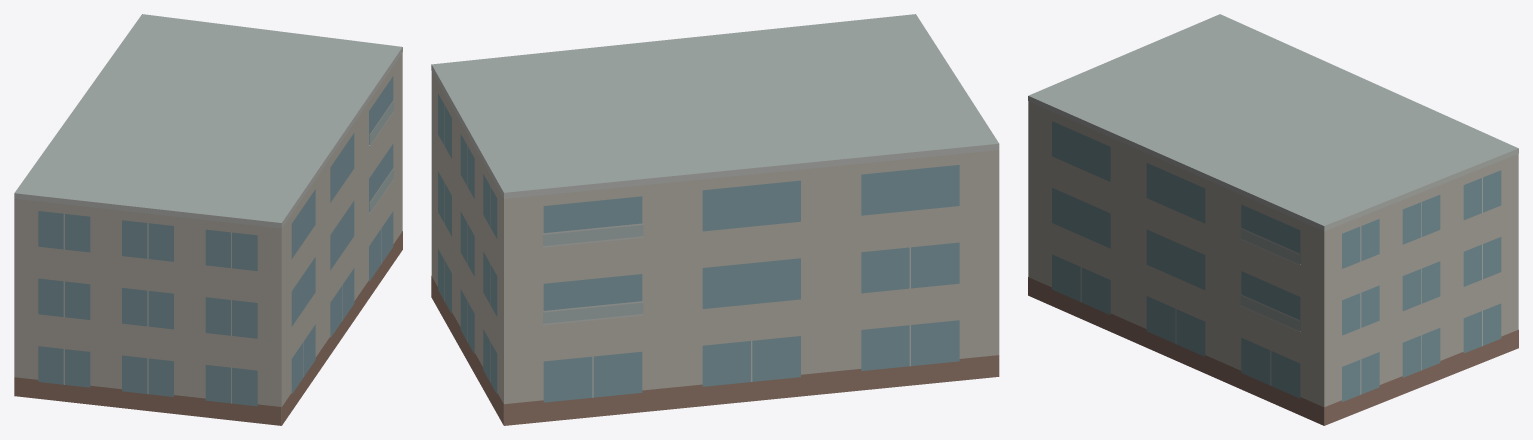
The model's file is survey-upis-32694063.glb.
3 renders of one model, left to right at view 1: azimuth 30°, elevation 25°; view 2: azimuth 150°, elevation 25°; view 3: azimuth 270°, elevation 25°, orthographic. The views are drawn at different scales.
Parts seen in each view (by area): view 1: survey-upis-32694063.tmp; view 2: survey-upis-32694063.tmp; view 3: survey-upis-32694063.tmp.
Part boxes in pixels (x1,y1,x2,y2): survey-upis-32694063.tmp: (14,14,402,425); survey-upis-32694063.tmp: (431,14,999,425); survey-upis-32694063.tmp: (1028,14,1518,425).
Size of the model in its own units: 20.84 by 9.15 by 20.37.
